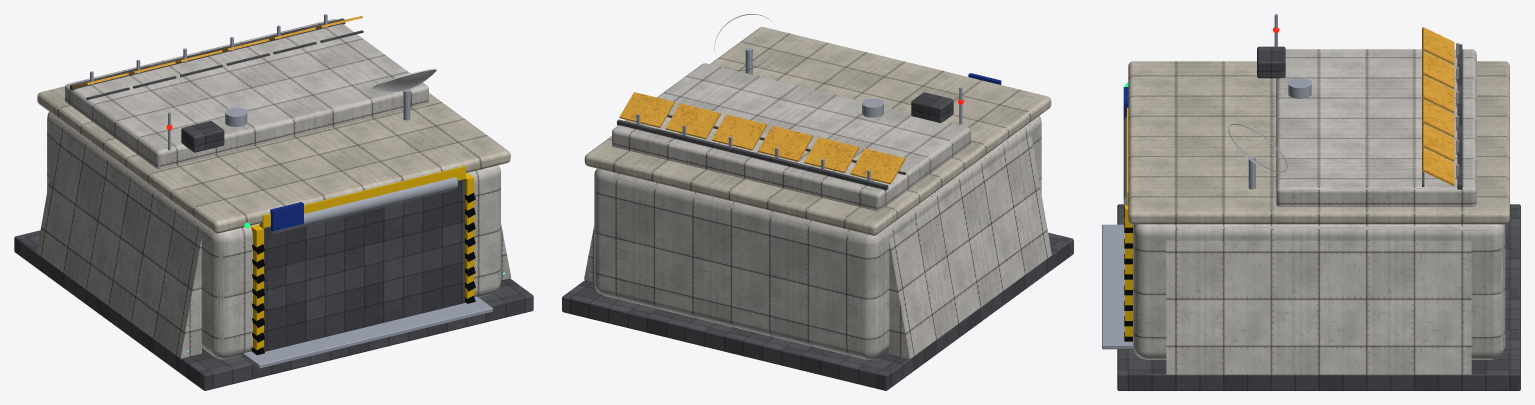
Rendered from BaseLarge.glb.
3 views of the same model, side by side, from view 1: azimuth 30°, elevation 25°; view 2: azimuth 150°, elevation 25°; view 3: azimuth 270°, elevation 25° (orthographic). The views are drawn at different scales.
Visible parts, largest first — view 1: GAR_Garage_Mesh; view 2: GAR_Garage_Mesh; view 3: GAR_Garage_Mesh.
Part boxes in pixels (bbox=[...]): GAR_Garage_Mesh: bbox=[14, 14, 533, 390]; GAR_Garage_Mesh: bbox=[562, 14, 1073, 390]; GAR_Garage_Mesh: bbox=[1102, 14, 1520, 390].
Size of the model in its own units: 8.48 by 5.31 by 8.78.
14 materials, 4 textured.
